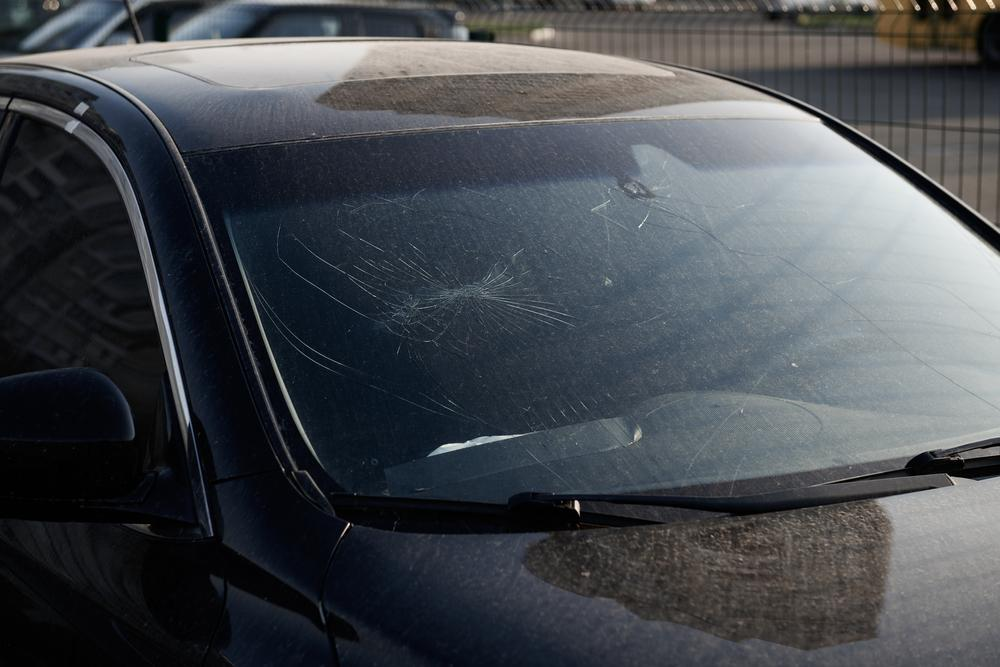glass shatter: (184, 120, 1000, 503)
